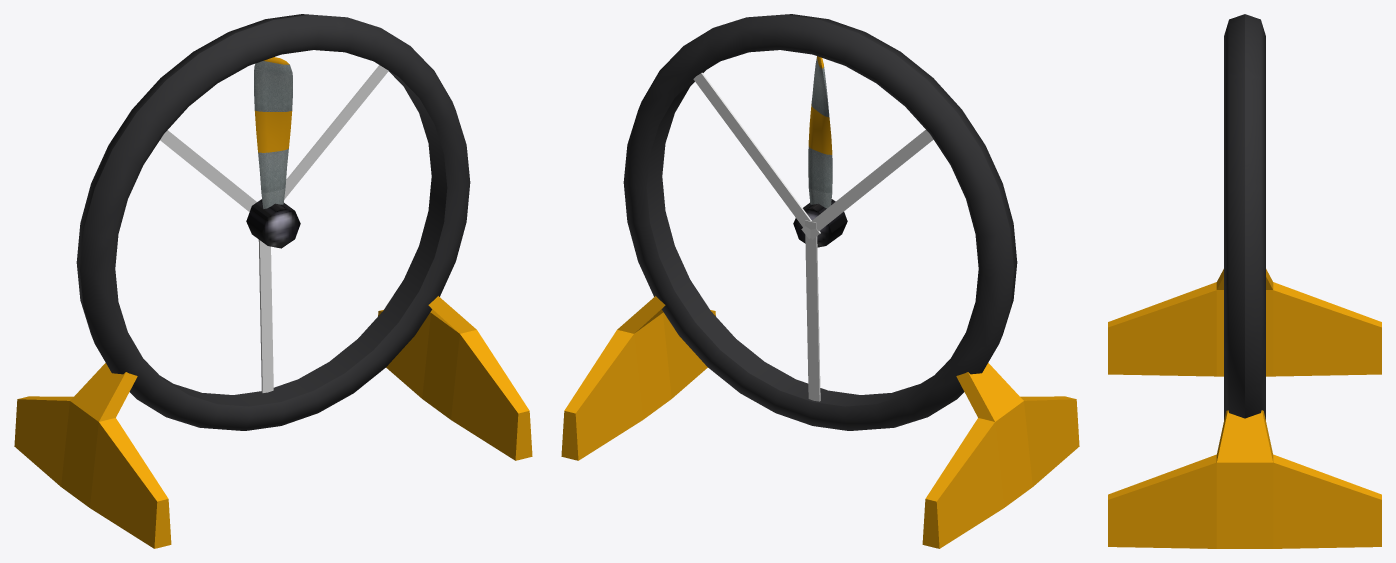
The model's file is WindMill_02.FBX.
3 views of the same model, side by side, from view 1: azimuth 30°, elevation 25°; view 2: azimuth 150°, elevation 25°; view 3: azimuth 270°, elevation 25° (orthographic). The views are drawn at different scales.
Parts seen in each view (by area): view 1: OuterRing, Cube.018, Cylinder; view 2: OuterRing, Cube.018, Cylinder; view 3: OuterRing.
Part boxes in pixels (x1=…): OuterRing: x1=14, y1=14, x2=532, y2=548; Cube.018: x1=254, y1=57, x2=292, y2=208; Cylinder: x1=246, y1=199, x2=300, y2=248; OuterRing: x1=561, y1=14, x2=1079, y2=548; Cube.018: x1=808, y1=56, x2=832, y2=208; Cylinder: x1=793, y1=199, x2=847, y2=247; OuterRing: x1=1108, y1=14, x2=1381, y2=548.
Bounding box in the file's own units: 19.61 × 20.43 × 12.01.
